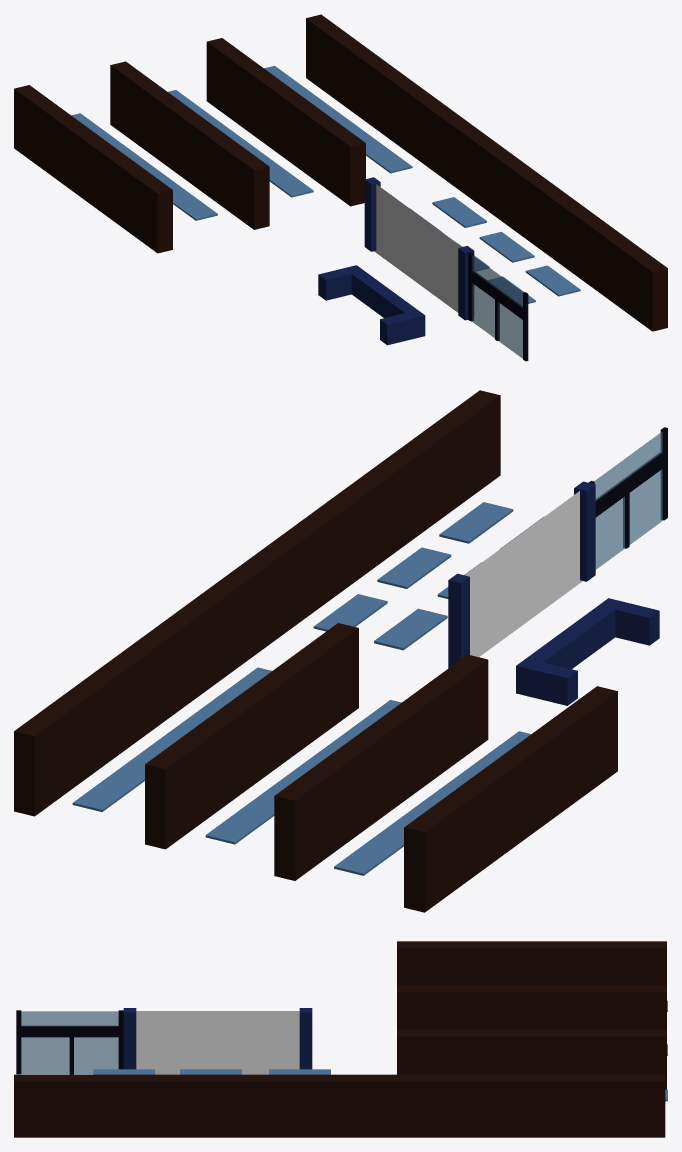
The model's file is templateIn.FBX.
3 renders of one model, top to bottom at view 1: azimuth 30°, elevation 25°; view 2: azimuth 150°, elevation 25°; view 3: azimuth 270°, elevation 25°, orthographic. The views are drawn at different scales.
Visible parts, largest first — view 1: Box043, Plane010, Box037, Plane011, Box047, Box049, Box048, Box056, Box038, Box055, Box053, Box050 (+1 smaller); view 2: Box043, Plane010, Box037, Plane011, Box047, Box049, Box048, Box056, Box038, Box039, Box055, Box053 (+2 smaller); view 3: Box043, Plane010, Plane011, Box056, Box038, Box039, Box054, Box051, Box052.
Boxes of the visible parts, x1,y1,x2,y2 form: Box043: (14, 14, 667, 331); Plane010: (374, 184, 469, 320); Box037: (318, 265, 425, 345); Plane011: (472, 255, 522, 358); Box047: (264, 65, 412, 173); Box049: (71, 113, 217, 220); Box048: (168, 90, 313, 197); Box056: (468, 252, 528, 361); Box038: (364, 177, 380, 251); Box055: (525, 265, 580, 296); Box053: (479, 231, 534, 262); Box050: (432, 197, 486, 227); Box043: (14, 390, 617, 912); Plane010: (465, 491, 582, 657); Box037: (516, 598, 659, 705); Plane011: (594, 431, 662, 569); Box047: (72, 667, 271, 811); Box049: (334, 731, 530, 875); Box048: (205, 700, 401, 844); Box056: (588, 427, 667, 548); Box038: (448, 573, 469, 668); Box039: (574, 481, 595, 581); Box055: (439, 502, 513, 543); Box053: (377, 547, 451, 588); Box043: (14, 941, 666, 1137); Plane010: (136, 1011, 299, 1074); Plane011: (21, 1011, 118, 1074); Box056: (16, 1010, 123, 1074); Box038: (299, 1008, 312, 1069); Box039: (123, 1008, 136, 1069); Box054: (93, 1069, 155, 1074); Box051: (269, 1069, 330, 1074); Box052: (180, 1069, 241, 1074).
Size of the model in its own units: 1735 by 477 by 3414.
